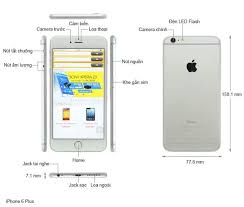iphone: (159, 34, 223, 154), (46, 33, 110, 153)
iphone6: (45, 33, 109, 153)
